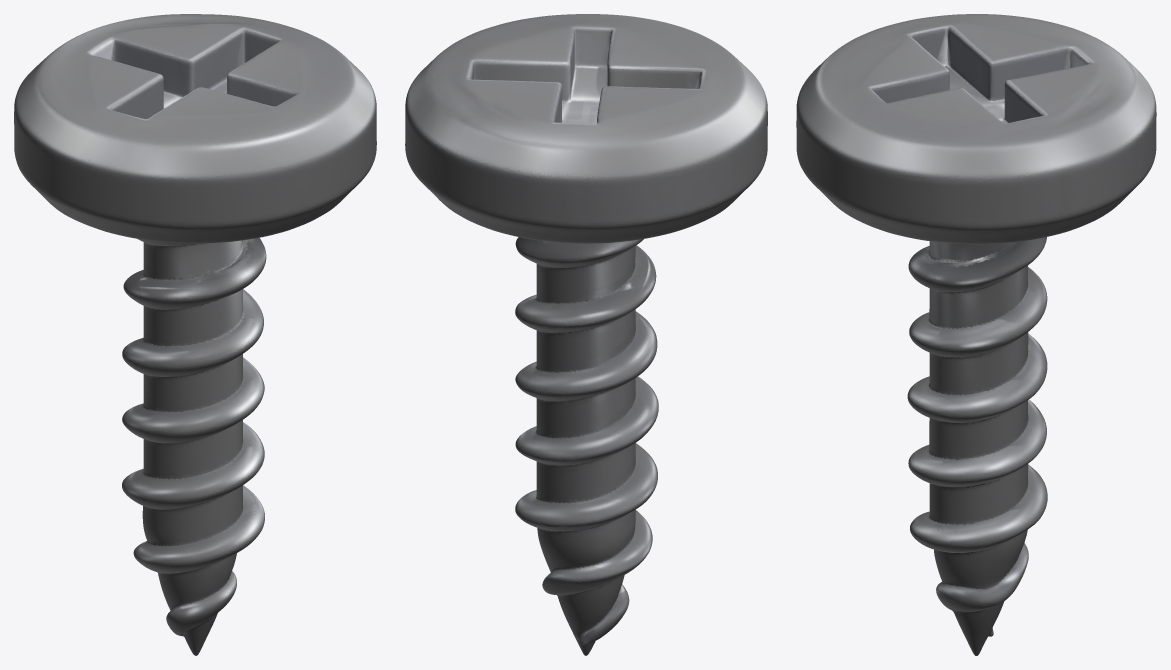
3 renders of one model, left to right at view 1: azimuth 30°, elevation 25°; view 2: azimuth 150°, elevation 25°; view 3: azimuth 270°, elevation 25°, orthographic.
Parts seen in each view (by area): view 1: geometry_0; view 2: geometry_0; view 3: geometry_0.
Boxes of the visible parts, x1=… form: geometry_0: x1=14, y1=14, x2=376, y2=655; geometry_0: x1=405, y1=14, x2=767, y2=655; geometry_0: x1=796, y1=14, x2=1156, y2=655.
Size of the model in its own units: 0.5679 by 1 by 0.5633.
1 material, 1 textured.
